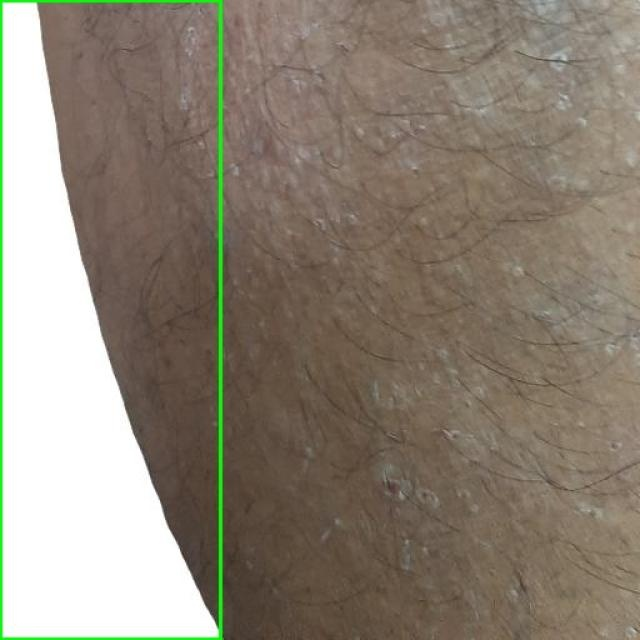Contact Dermatitis: (0, 0, 220, 639)
